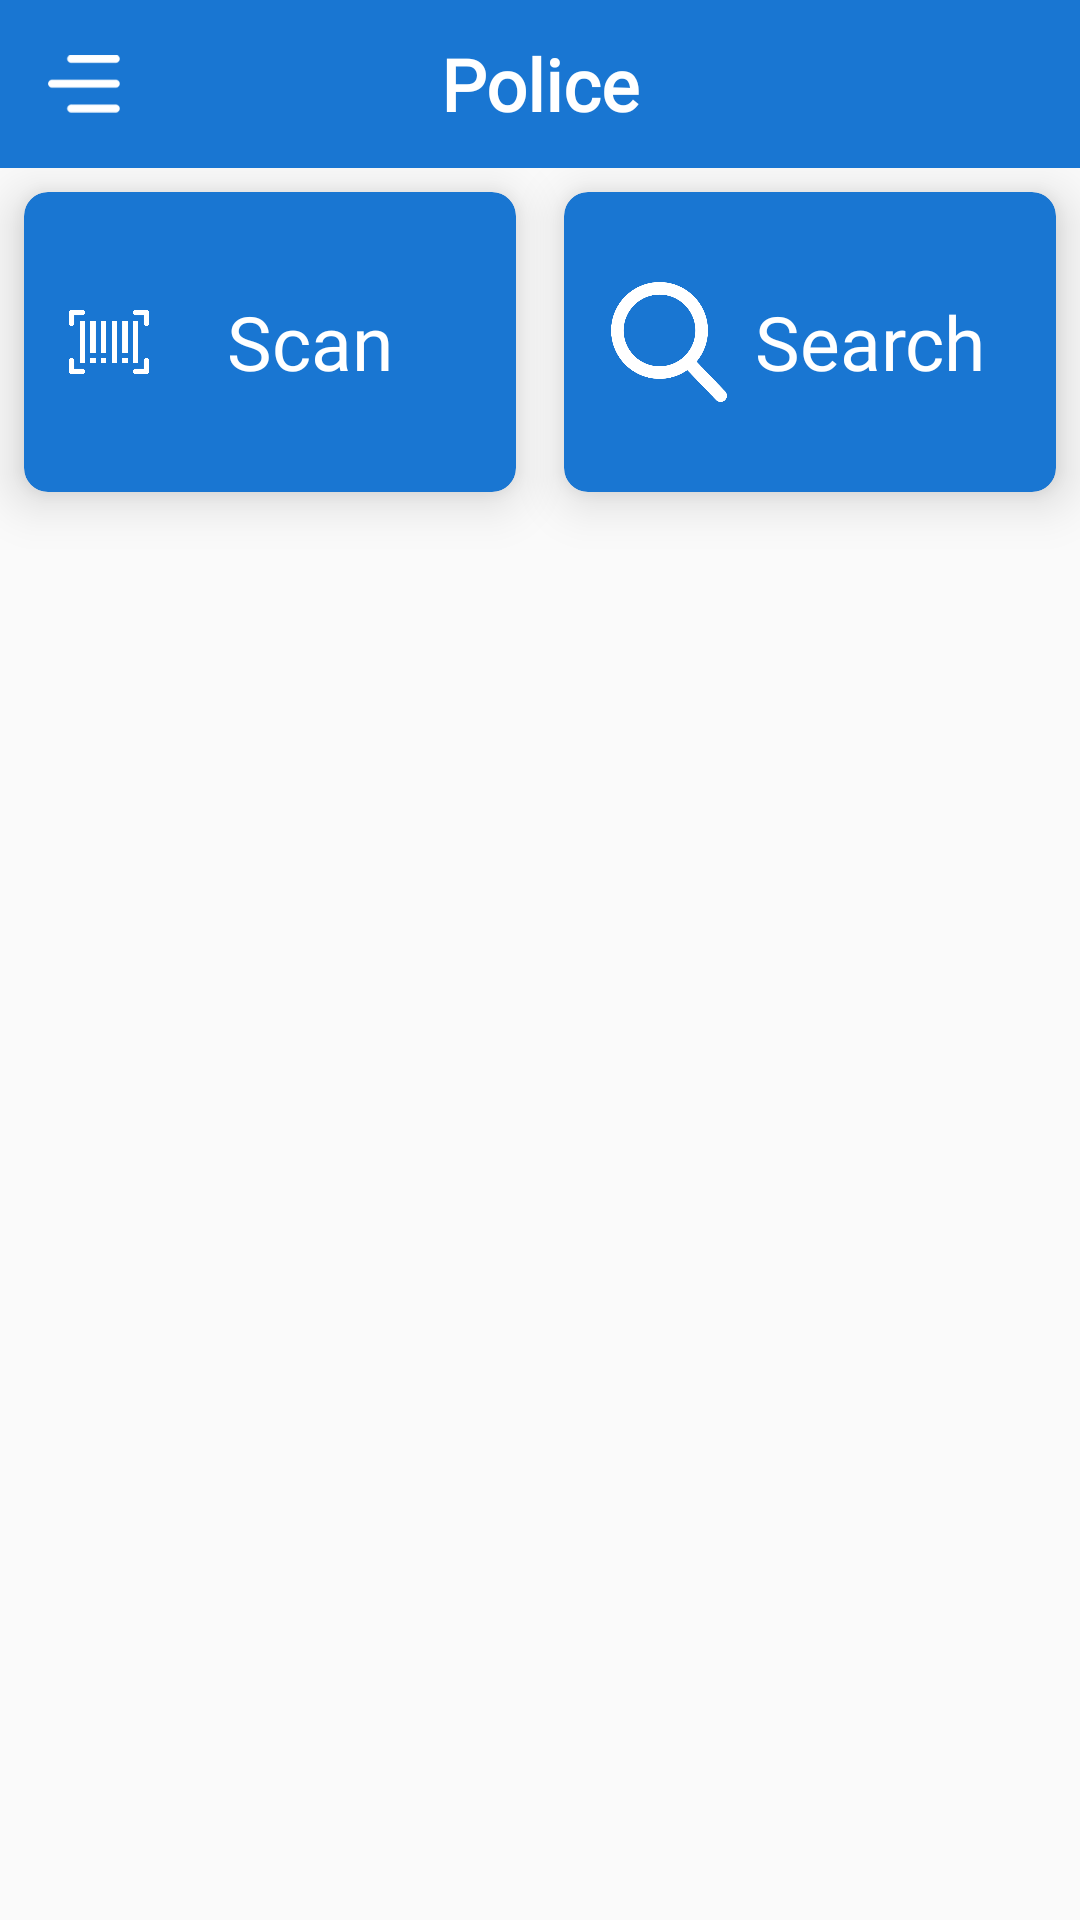

Icon click points for this 1080w x 1920h phone screenshot, format [x,y]:
menu: [84,84]
